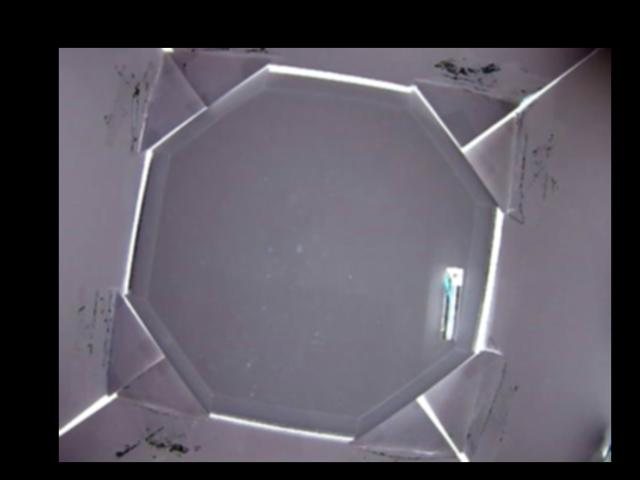Battery: (441, 268, 464, 342)
